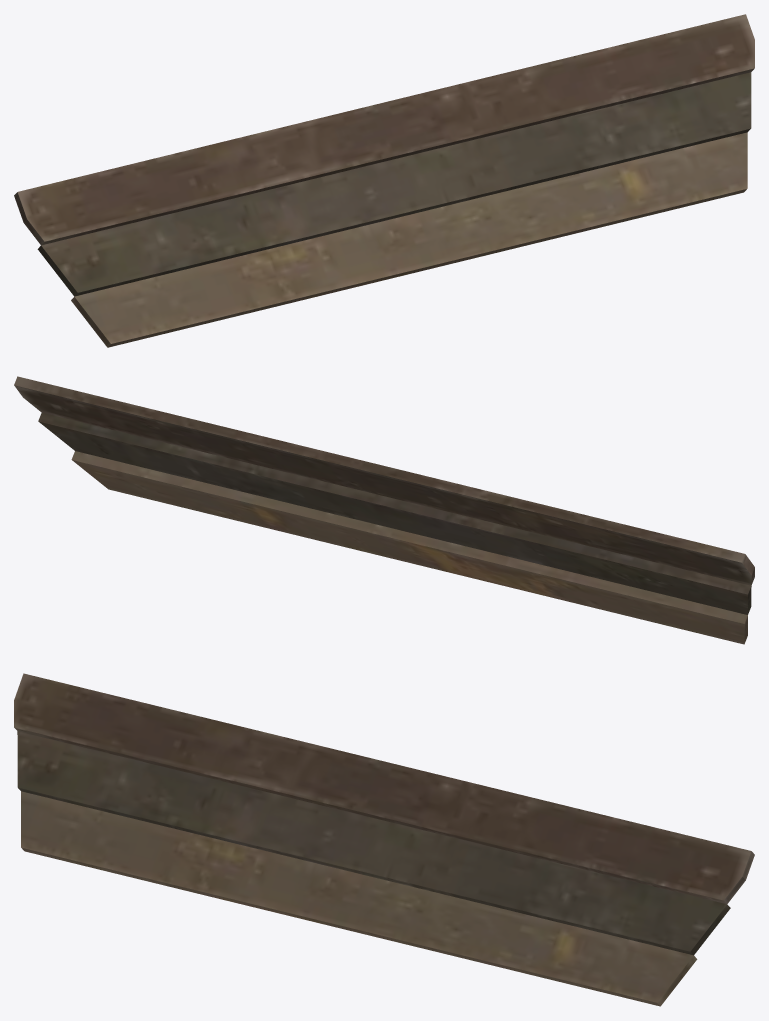
Rendered from roof.triangle.frontier.down.top.line.glb.
3 renders of one model, top to bottom at view 1: azimuth 30°, elevation 25°; view 2: azimuth 150°, elevation 25°; view 3: azimuth 330°, elevation 25°, orthographic.
Visible parts, largest first — view 1: model; view 2: model; view 3: model.
Part boxes in pixels (left/top/right/bottom): model: left=14, top=14, right=754, bottom=347; model: left=14, top=376, right=754, bottom=644; model: left=14, top=673, right=754, bottom=1006.
Size of the model in its own units: 3 by 0.5288 by 0.3671.
1 material, 1 textured.
